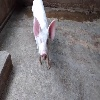heo: (30, 14, 59, 61)
